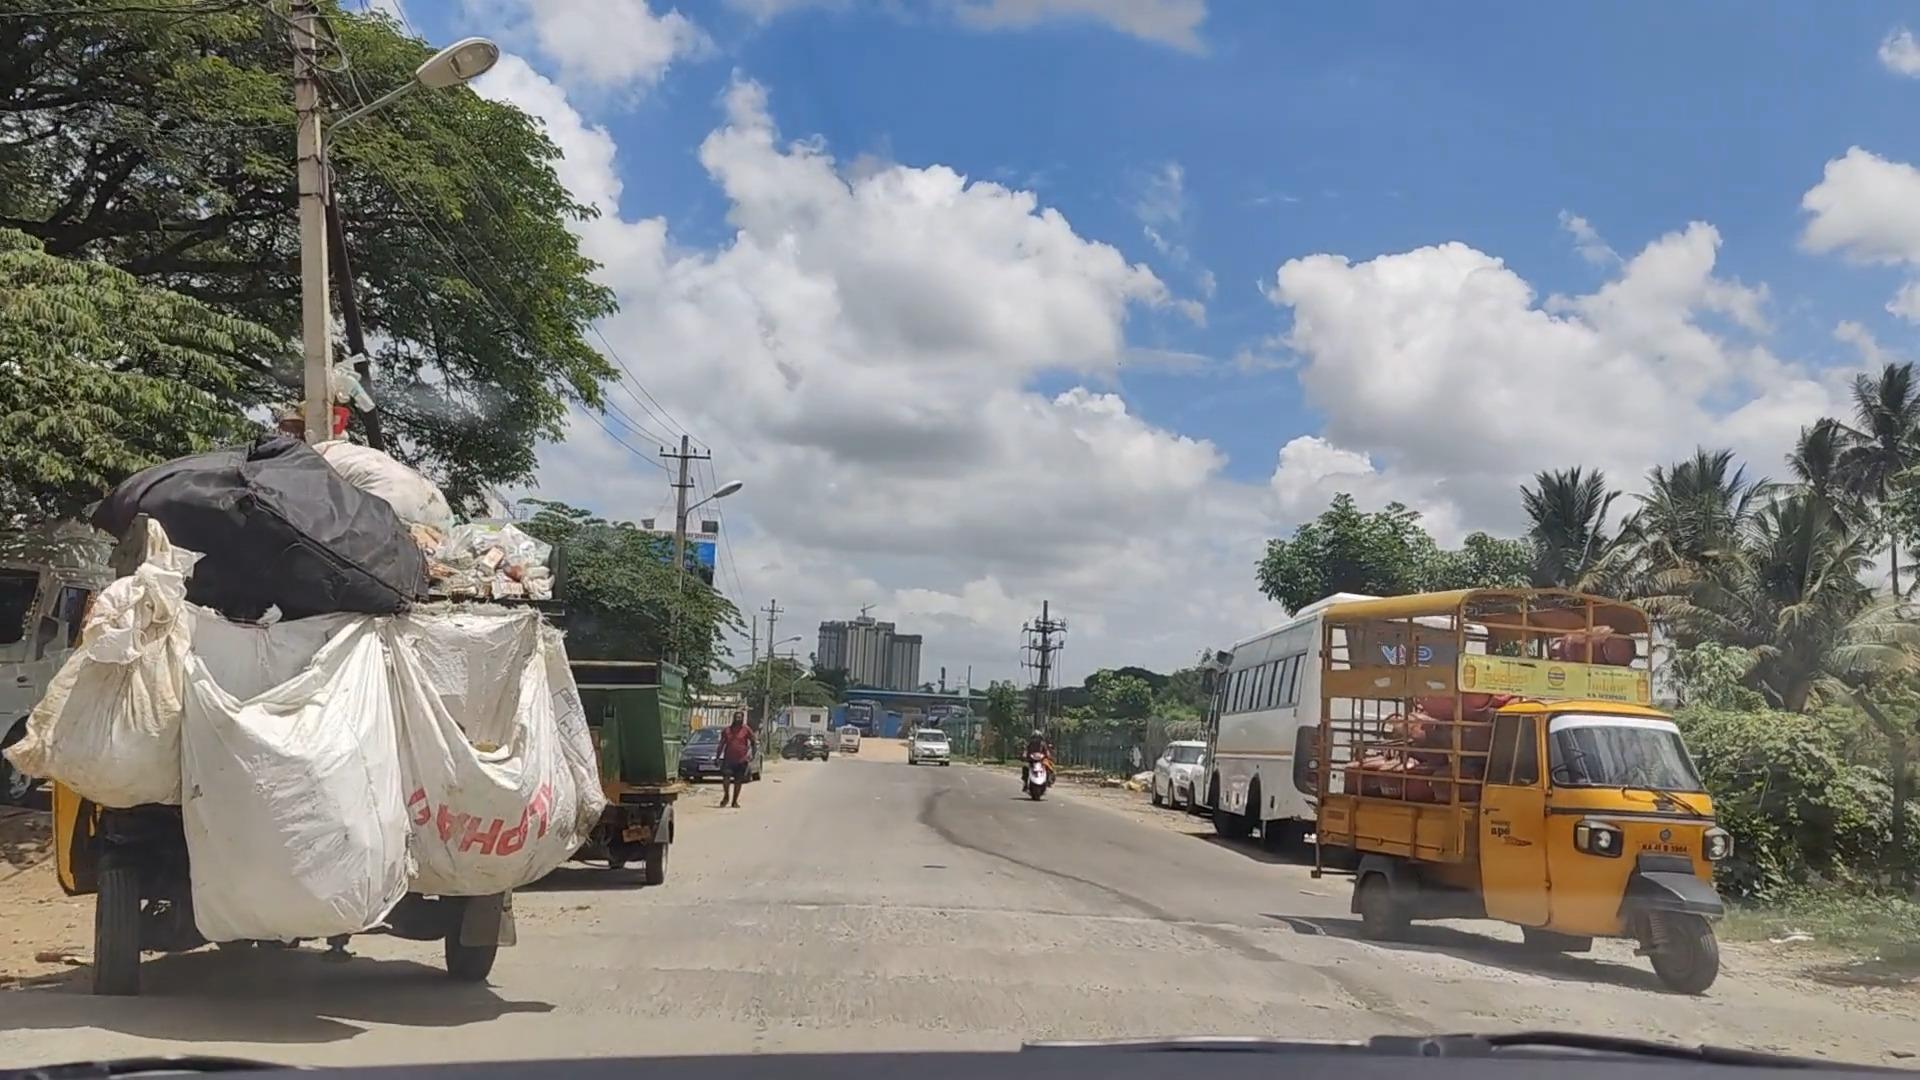HMV: (86, 476, 605, 997), (1325, 597, 1755, 1010)
RoadDamages: (686, 898, 1291, 1038)
